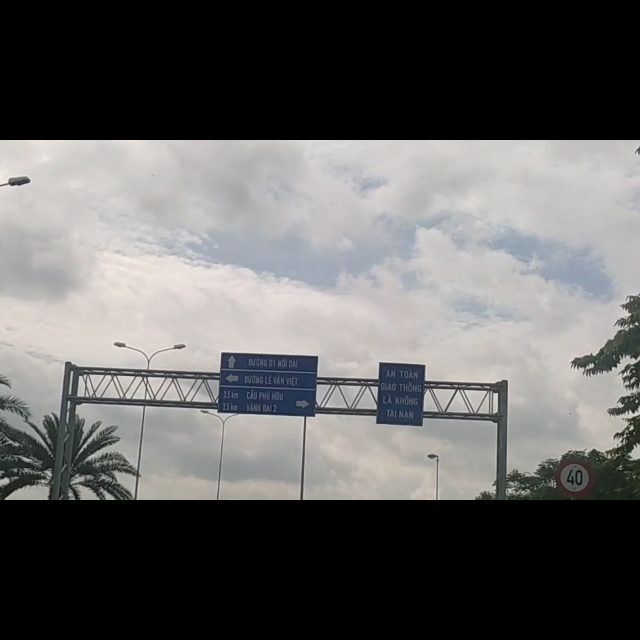bien_chi_dan: (555, 564, 597, 632)
